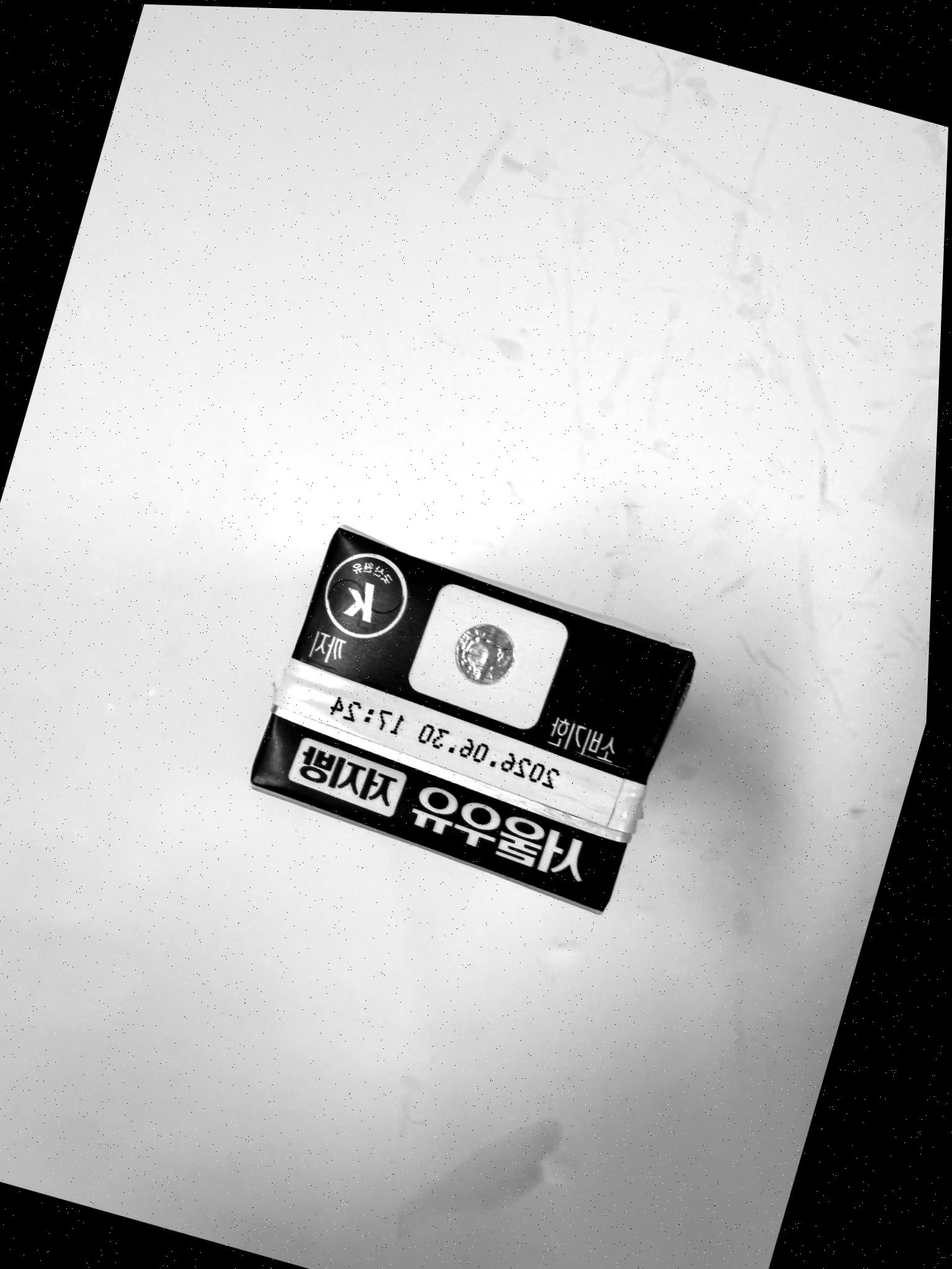milk_blue: (246, 526, 693, 912)
